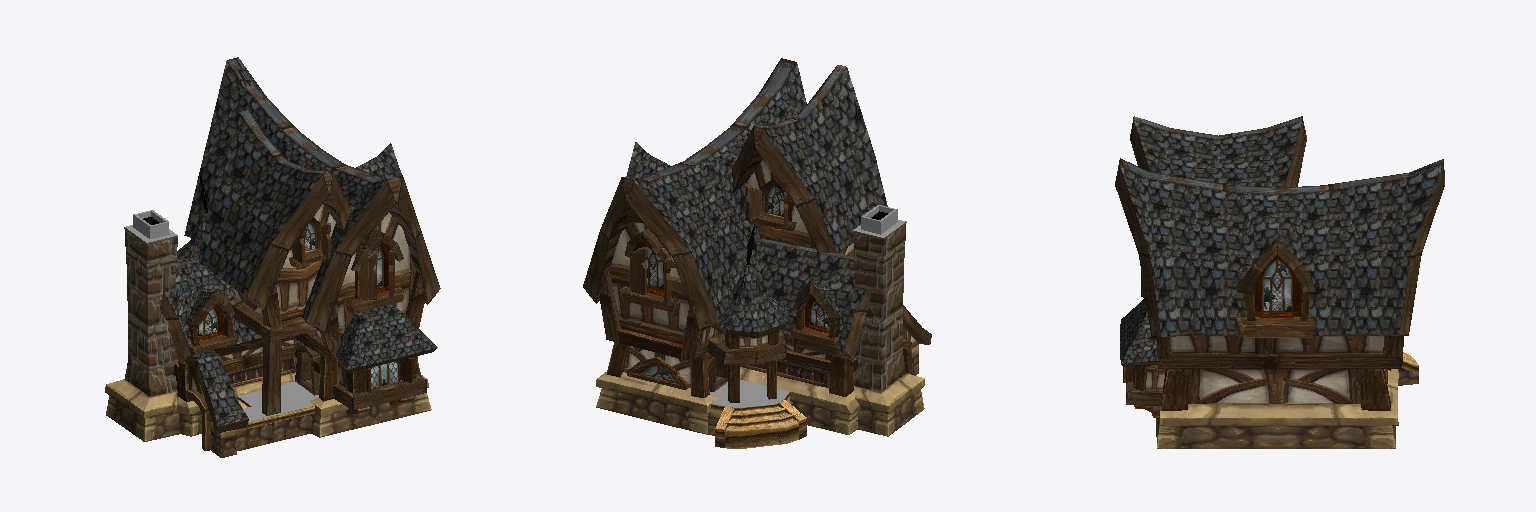
3 views of the same model, side by side, from view 1: azimuth 30°, elevation 25°; view 2: azimuth 150°, elevation 25°; view 3: azimuth 270°, elevation 25° (orthographic).
Parts seen in each view (by area): view 1: houseexterioir; view 2: houseexterioir; view 3: houseexterioir.
Part boxes in pixels (left/top/right/bottom): houseexterioir: left=105, top=57, right=440, bottom=457; houseexterioir: left=583, top=58, right=931, bottom=448; houseexterioir: left=1115, top=116, right=1444, bottom=448.
Bounding box in the file's own units: 35.53 × 34.24 × 37.37.
27 materials, 25 textured.